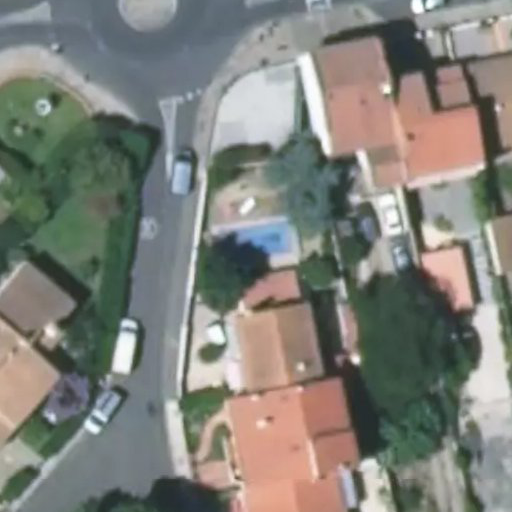pool: (224, 233, 287, 250)
